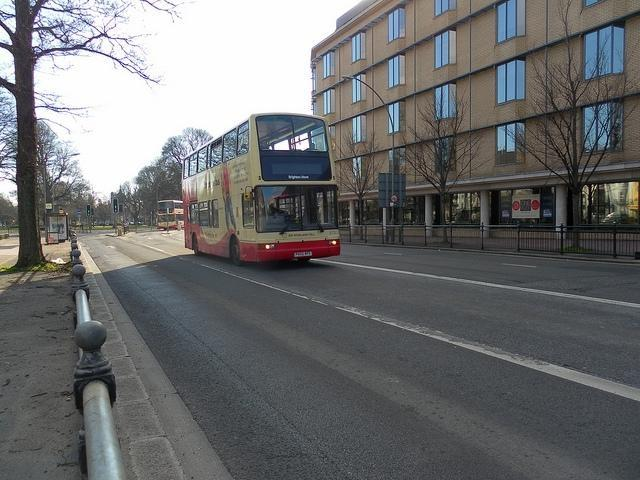bus: (180, 116, 340, 270), (158, 200, 185, 231)
